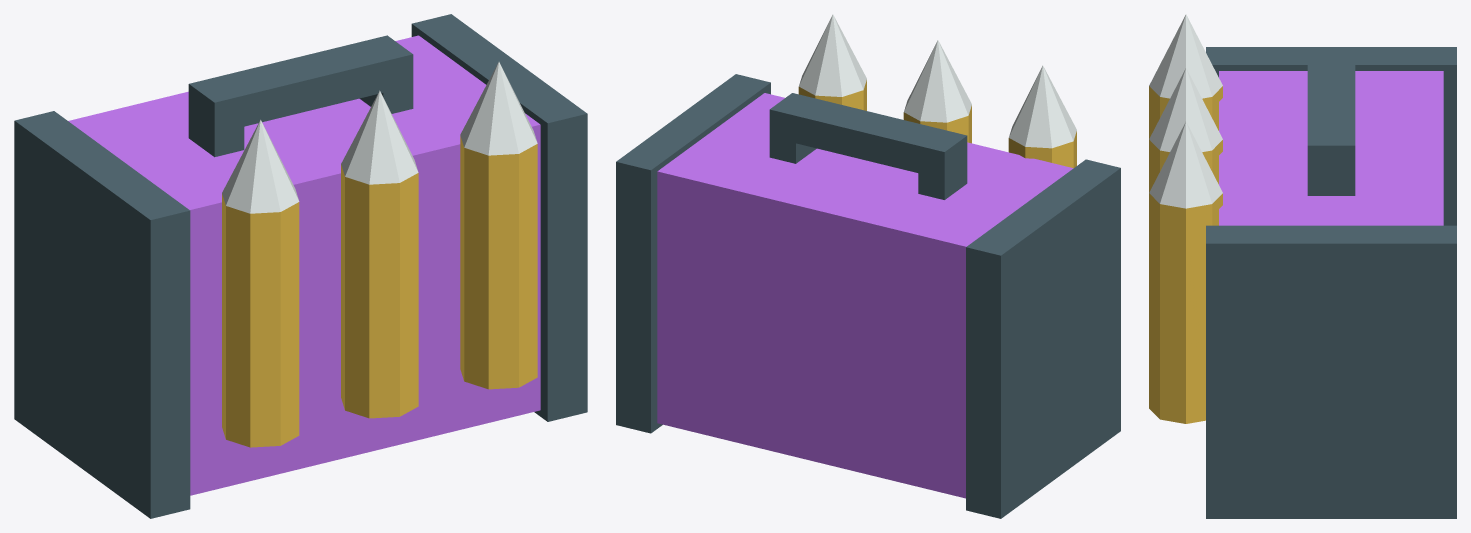
The model's file is pickup-arc.glb.
3 views of the same model, side by side, from view 1: azimuth 30°, elevation 25°; view 2: azimuth 150°, elevation 25°; view 3: azimuth 270°, elevation 25° (orthographic). The views are drawn at different scales.
Visible parts, largest first — view 1: Case, Corner protection, Corner protection.001, Cylinder.001, Cylinder, Cylinder.002, Handle, Cone, Cone.001, Cone.002, Handle foot, Handle foot.001; view 2: Case, Corner protection, Corner protection.001, Handle, Cone, Cone.002, Cone.001, Handle foot, Cylinder, Handle foot.001, Cylinder.001, Cylinder.002; view 3: Corner protection.001, Case, Cylinder.002, Corner protection, Handle, Cone.002, Cone, Cone.001, Handle foot.001, Cylinder, Cylinder.001.
Part boxes in pixels (x1=…): Case: x1=68, y1=35, x2=540, y2=495; Corner protection: x1=14, y1=111, x2=190, y2=518; Corner protection.001: x1=411, y1=14, x2=587, y2=421; Cylinder.001: x1=341, y1=164, x2=418, y2=418; Cylinder: x1=222, y1=194, x2=299, y2=447; Cylinder.002: x1=460, y1=136, x2=537, y2=389; Handle: x1=188, y1=35, x2=413, y2=133; Cone: x1=222, y1=119, x2=299, y2=213; Cone.001: x1=341, y1=90, x2=418, y2=184; Cone.002: x1=460, y1=62, x2=537, y2=155; Handle foot: x1=188, y1=93, x2=244, y2=157; Handle foot.001: x1=359, y1=63, x2=413, y2=113; Case: x1=657, y1=93, x2=1073, y2=498; Corner protection: x1=966, y1=159, x2=1120, y2=518; Corner protection.001: x1=616, y1=74, x2=770, y2=433; Handle: x1=769, y1=93, x2=967, y2=179; Cone: x1=1009, y1=65, x2=1076, y2=148; Cone.002: x1=799, y1=14, x2=866, y2=96; Cone.001: x1=904, y1=40, x2=971, y2=122; Handle foot: x1=918, y1=144, x2=967, y2=199; Cylinder: x1=1008, y1=131, x2=1076, y2=168; Handle foot.001: x1=769, y1=118, x2=816, y2=163; Cylinder.001: x1=903, y1=105, x2=971, y2=143; Cylinder.002: x1=798, y1=80, x2=866, y2=110; Corner protection.001: x1=1206, y1=225, x2=1456, y2=518; Case: x1=1219, y1=71, x2=1443, y2=225; Cylinder.002: x1=1149, y1=193, x2=1222, y2=423; Corner protection: x1=1206, y1=47, x2=1456, y2=225; Handle: x1=1307, y1=56, x2=1355, y2=174; Cone.002: x1=1149, y1=121, x2=1222, y2=208; Cone: x1=1149, y1=14, x2=1222, y2=98; Cone.001: x1=1149, y1=68, x2=1222, y2=152; Handle foot.001: x1=1307, y1=154, x2=1355, y2=195; Cylinder: x1=1149, y1=86, x2=1222, y2=138; Cylinder.001: x1=1149, y1=139, x2=1222, y2=192.
Bounding box in the file's own units: 1.76 × 1.47 × 1.17.
